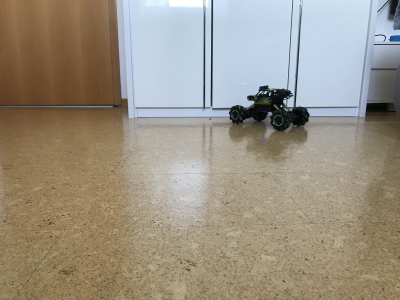remote control car: (226, 84, 312, 133)
